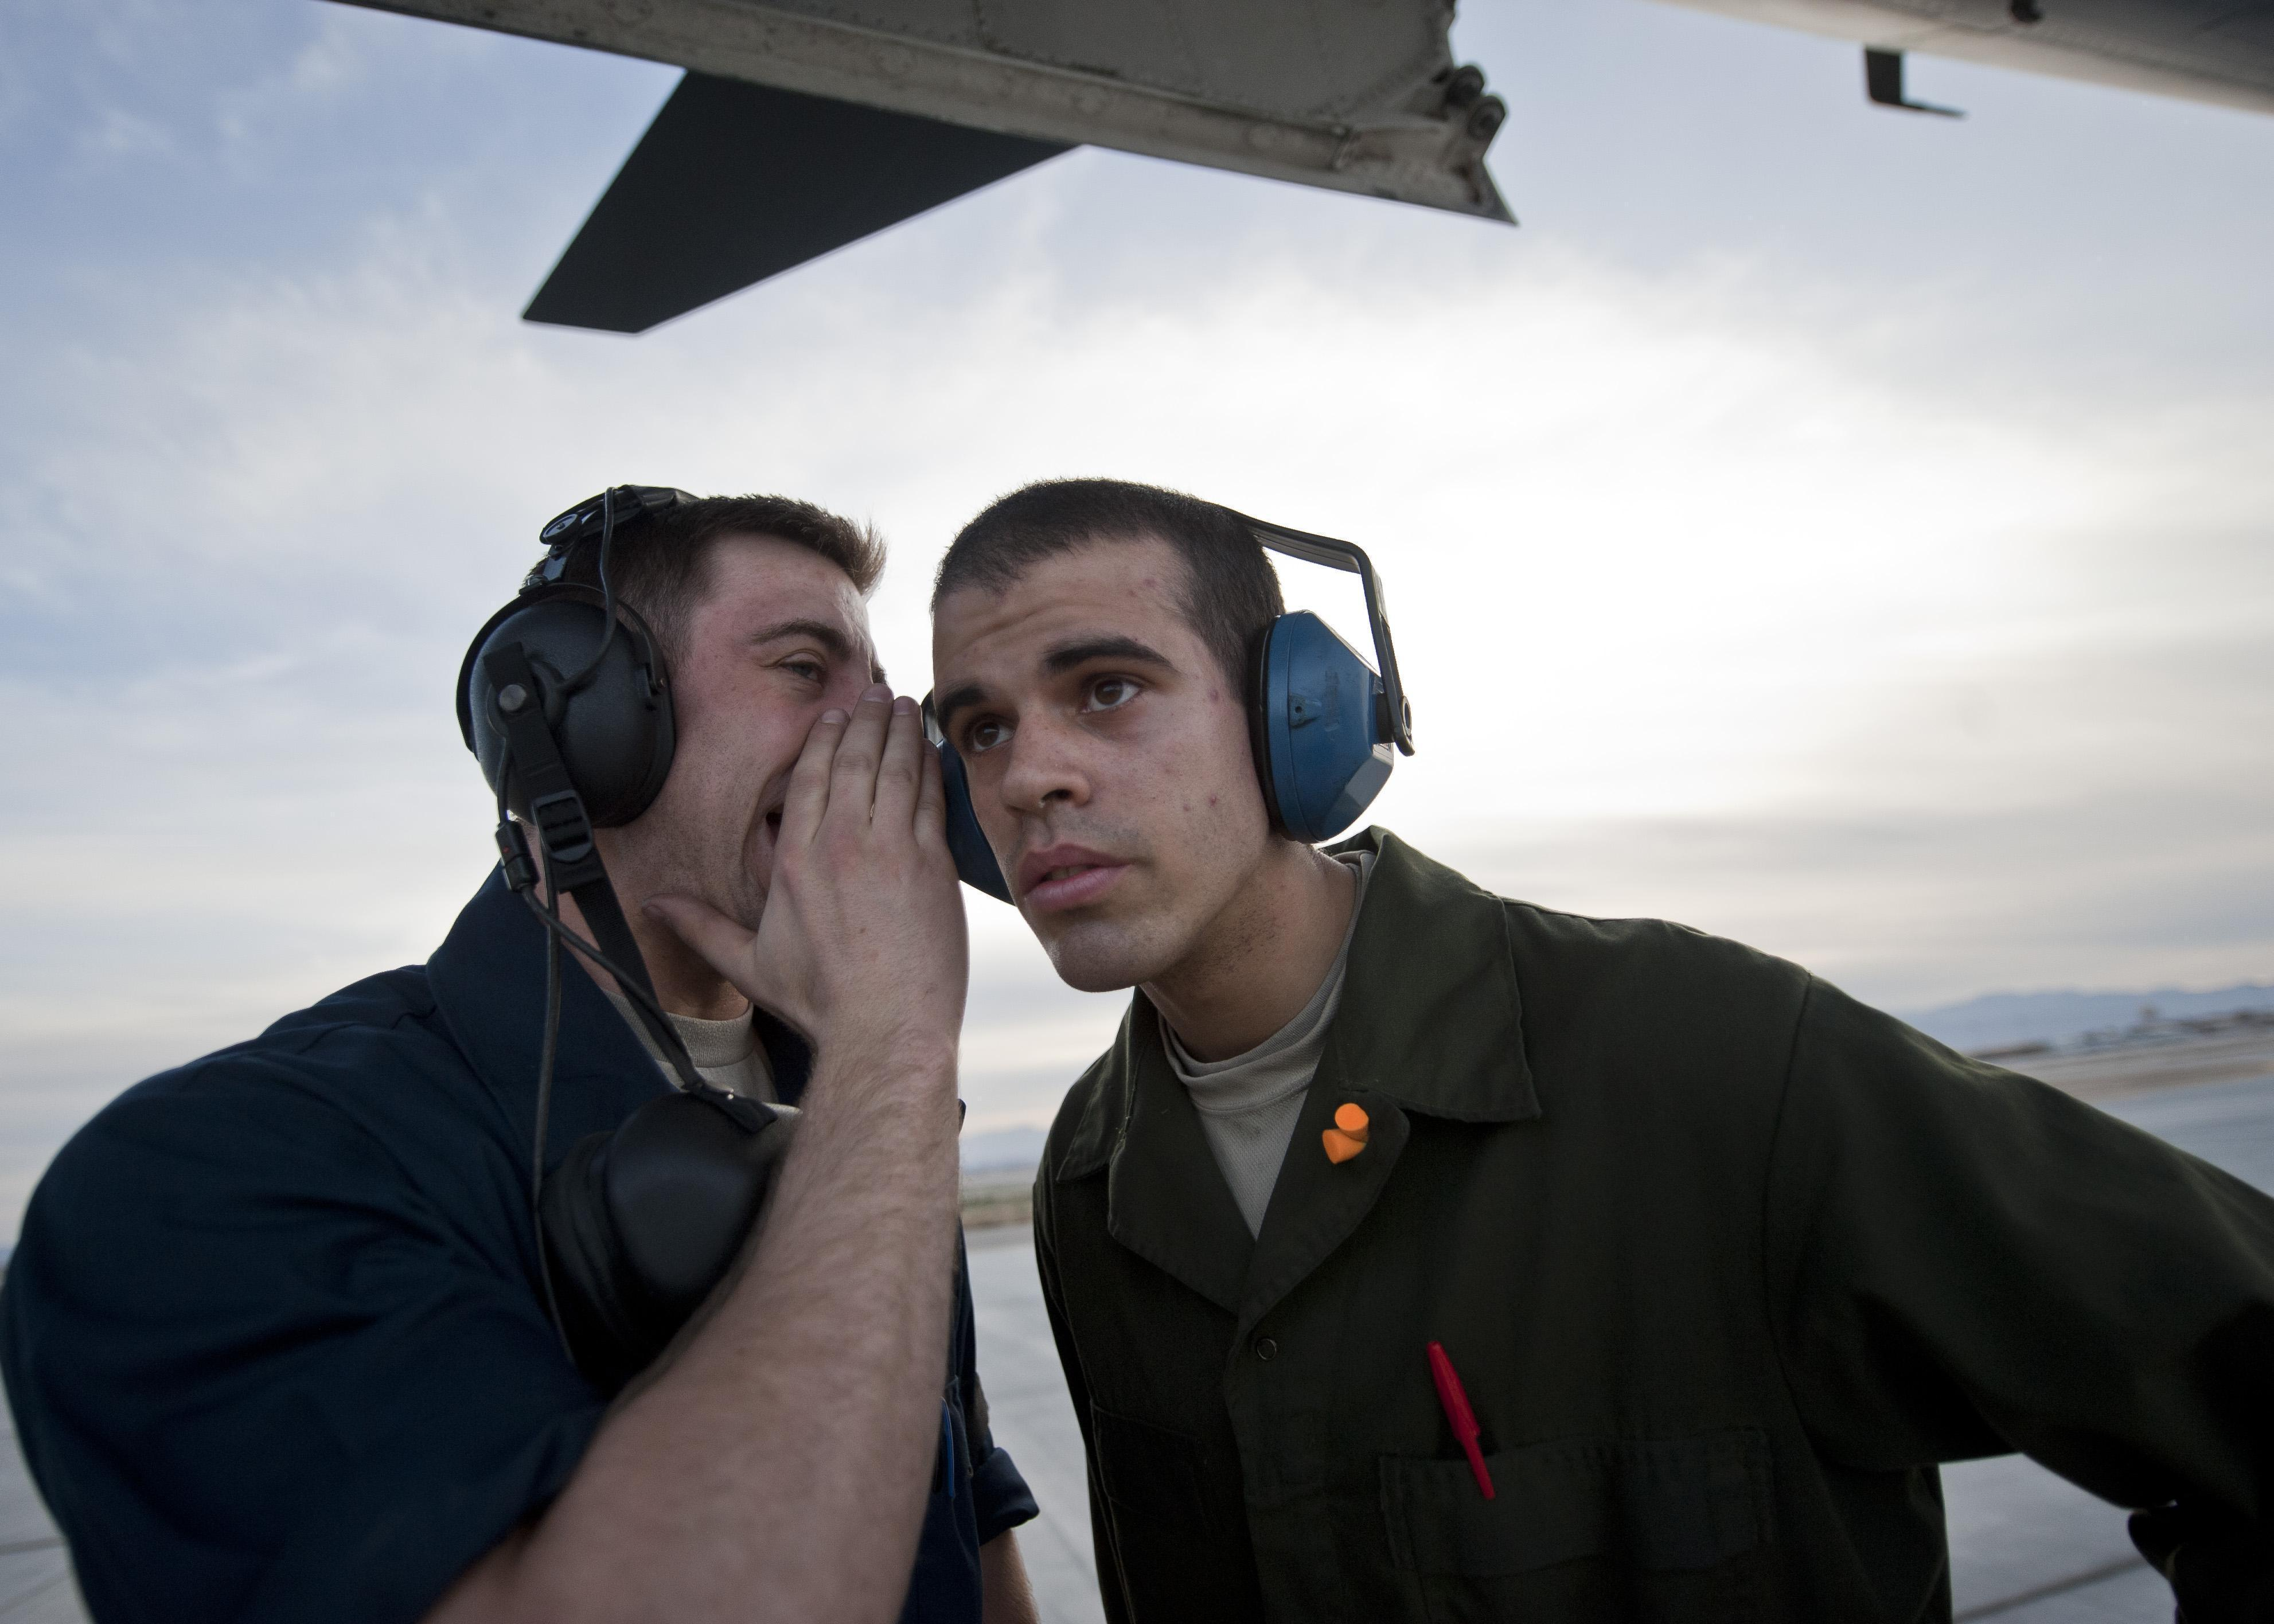Ear-protection: (958, 844, 2273, 1623)
